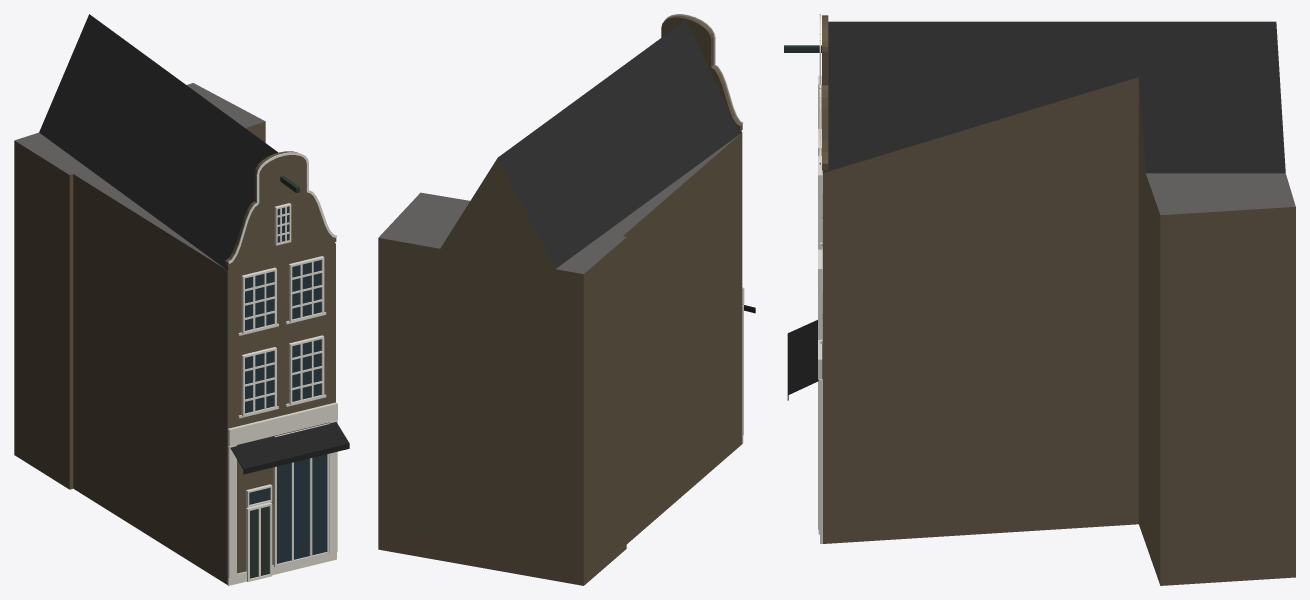
The picture shows the model from 3 angles, left to right: view 1: azimuth 30°, elevation 25°; view 2: azimuth 150°, elevation 25°; view 3: azimuth 270°, elevation 25°; orthographic projection. The views are drawn at different scales.
Parts seen in each view (by area): view 1: spec-0363100012182848; view 2: spec-0363100012182848; view 3: spec-0363100012182848.
Boxes of the visible parts, <box> form: spec-0363100012182848: <box>14,14,349,585</box>; spec-0363100012182848: <box>378,14,755,585</box>; spec-0363100012182848: <box>784,14,1295,585</box>.
Bounding box in the file's own units: 8.07 × 15.53 × 14.59.
